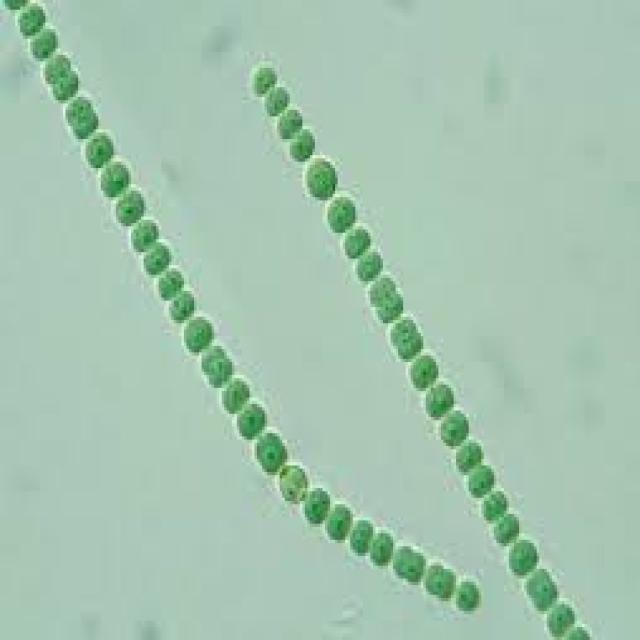Blue Green Algae: (297, 152, 340, 204), (363, 268, 406, 320), (58, 94, 101, 142), (249, 427, 290, 475), (108, 184, 149, 230), (388, 314, 423, 362), (95, 155, 134, 197), (199, 346, 234, 391), (436, 404, 471, 449), (426, 553, 456, 604), (526, 569, 560, 614), (181, 314, 217, 356), (126, 213, 161, 256), (393, 540, 426, 585), (421, 378, 456, 420), (504, 534, 539, 576), (302, 482, 332, 530), (322, 188, 356, 230), (219, 375, 255, 414), (403, 352, 439, 391), (234, 401, 267, 443), (335, 220, 373, 255), (138, 239, 172, 278), (83, 129, 116, 168), (454, 436, 486, 476), (154, 265, 189, 301), (164, 284, 199, 320), (325, 498, 353, 543), (12, 3, 50, 36), (250, 58, 282, 97), (285, 122, 315, 162), (353, 246, 383, 284), (350, 517, 376, 559), (479, 488, 509, 524), (547, 598, 577, 634), (262, 84, 295, 116), (28, 26, 58, 61), (456, 572, 481, 614), (492, 511, 522, 546), (469, 462, 496, 498), (272, 107, 302, 139), (38, 52, 70, 81), (370, 527, 393, 566), (48, 71, 78, 97)
